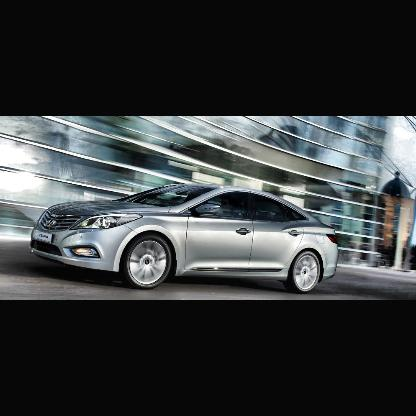Hyundai Azera Sedan 2012: (28, 180, 343, 292)
